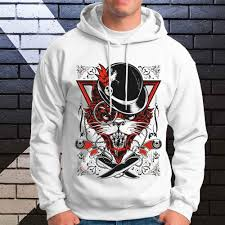cat: (72, 68, 164, 163)
